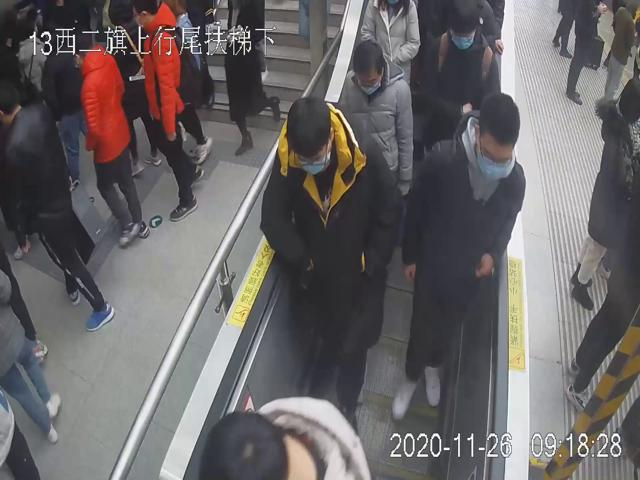person: (393, 92, 527, 418), (262, 98, 403, 404), (67, 34, 150, 247), (129, 0, 205, 222), (416, 0, 503, 148), (338, 36, 416, 200)
